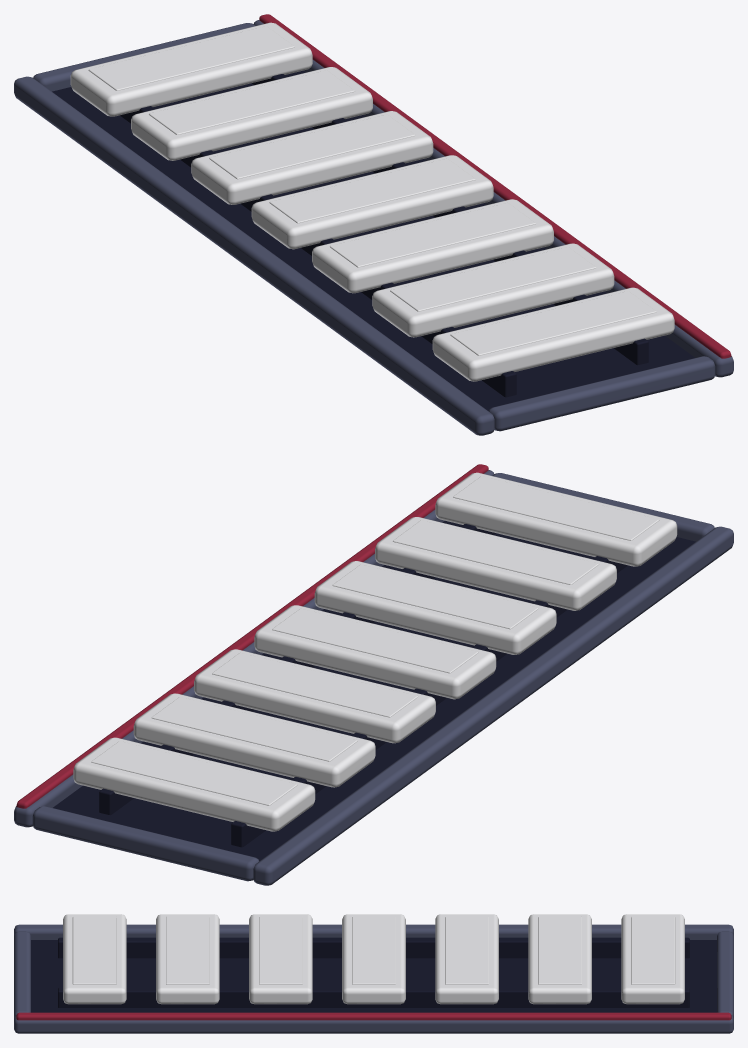
Rendered from roof.radiator.w1.d3.glb.
3 views of the same model, one above another, from view 1: azimuth 30°, elevation 25°; view 2: azimuth 150°, elevation 25°; view 3: azimuth 270°, elevation 25° (orthographic). The views are drawn at different scales.
Visible parts, largest first — view 1: roof.radiator.w1.d3; view 2: roof.radiator.w1.d3; view 3: roof.radiator.w1.d3.
Part boxes in pixels (x1,y1,x2,y2): roof.radiator.w1.d3: (14, 14, 733, 435); roof.radiator.w1.d3: (14, 464, 733, 885); roof.radiator.w1.d3: (14, 914, 733, 1033).
Size of the model in its own units: 0.94 by 0.164 by 2.94.
